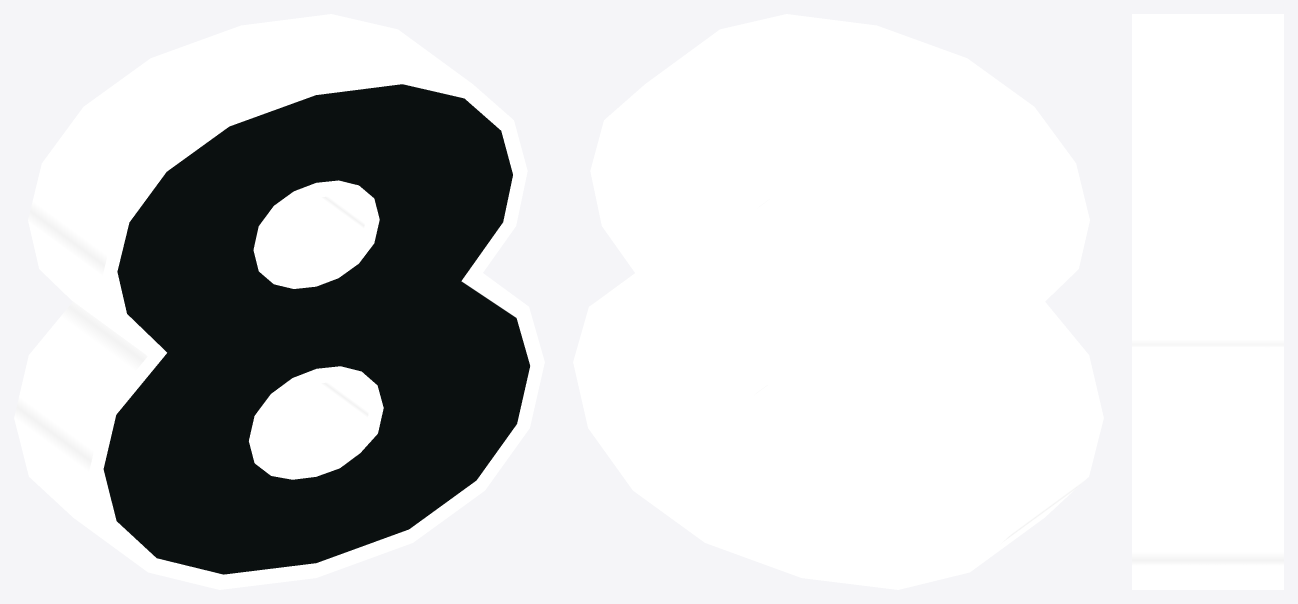
File: number_8.glb
3 renders of one model, left to right at view 1: azimuth 30°, elevation 25°; view 2: azimuth 150°, elevation 25°; view 3: azimuth 270°, elevation 25°, orthographic.
Parts seen in each view (by area): view 1: Nmbr.8; view 2: Nmbr.8; view 3: Nmbr.8.
Boxes of the visible parts, box(x1,y1,x2,y2) form: Nmbr.8: box(14, 14, 544, 589); Nmbr.8: box(573, 14, 1103, 589); Nmbr.8: box(1132, 14, 1283, 589).
Bounding box in the file's own units: 1.07 × 1.12 × 0.3052.
Materials: 1 (1 with a texture image).
